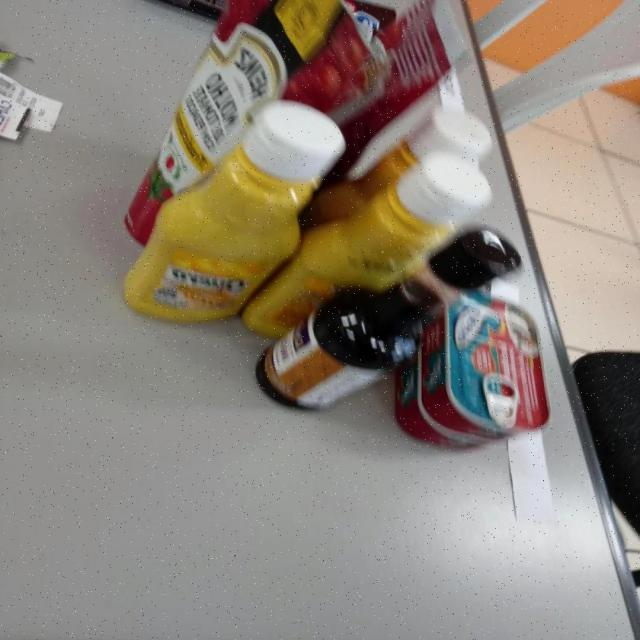EnglishSauce: (257, 233, 521, 406)
Mustard: (118, 99, 350, 327)
TomatoSauce: (122, 0, 388, 245)
TunaCan: (421, 292, 547, 439)
